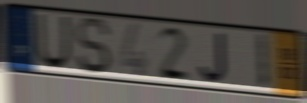2: (155, 27, 191, 82)
4: (119, 21, 149, 79)
I: (255, 32, 270, 92)
J: (198, 31, 229, 85)
S: (73, 16, 112, 76)
U: (35, 12, 72, 71)
